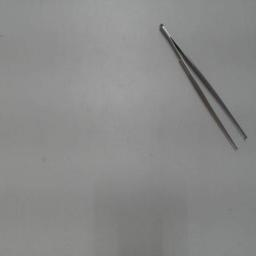Gillies Toothed Dissector: (155, 13, 251, 155)
